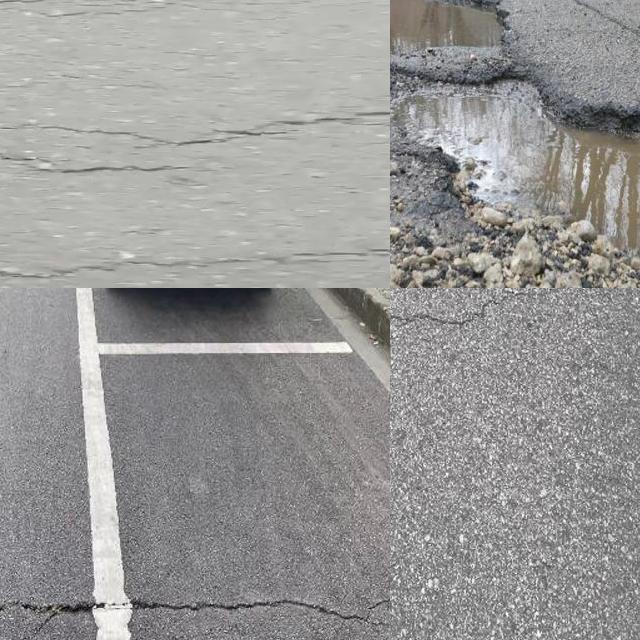Lubang: (390, 69, 640, 265), (390, 0, 511, 56)
Melintang: (0, 232, 390, 288), (0, 585, 390, 637), (0, 147, 193, 193), (0, 0, 390, 20), (390, 298, 509, 341)
